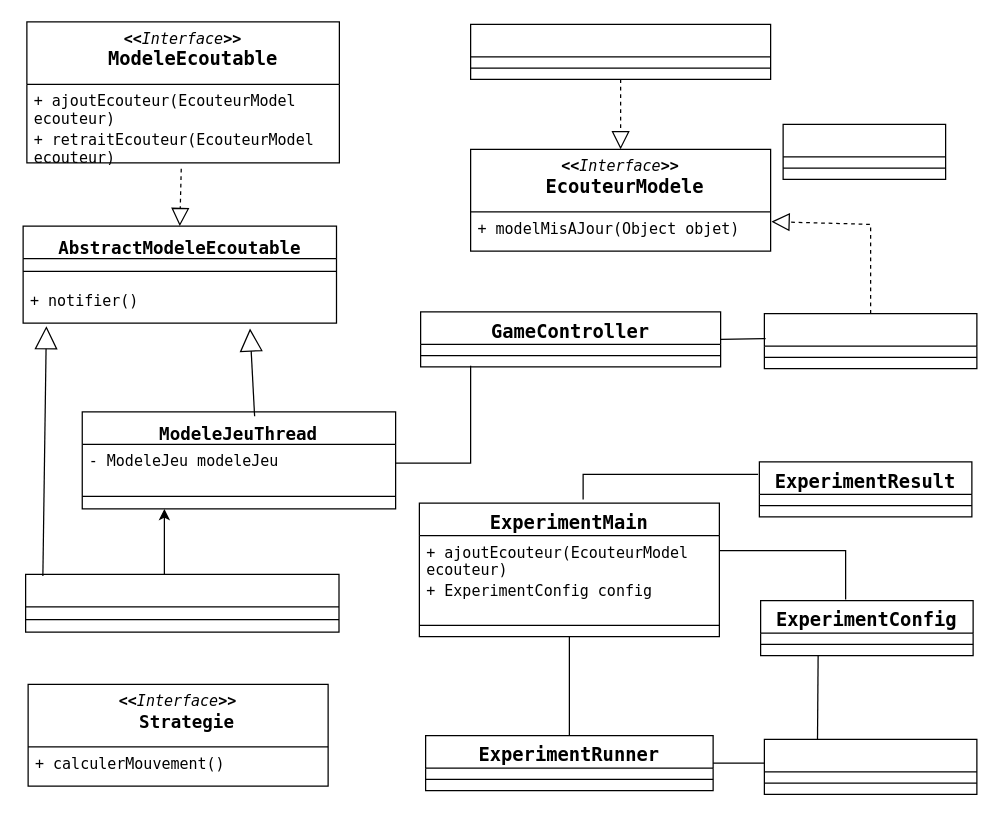
This 1000x816 diagram has some shape labels left out. Here are the shapes that lost their labels. From the top down, the centre of each, then its label:
At point (620, 51): "GameBoardPanel".
At point (864, 151): "ViewJeu".
At point (870, 340): "GUI".
At point (181, 602): "ModeleJeu".
At point (870, 766): "GameRunner".
